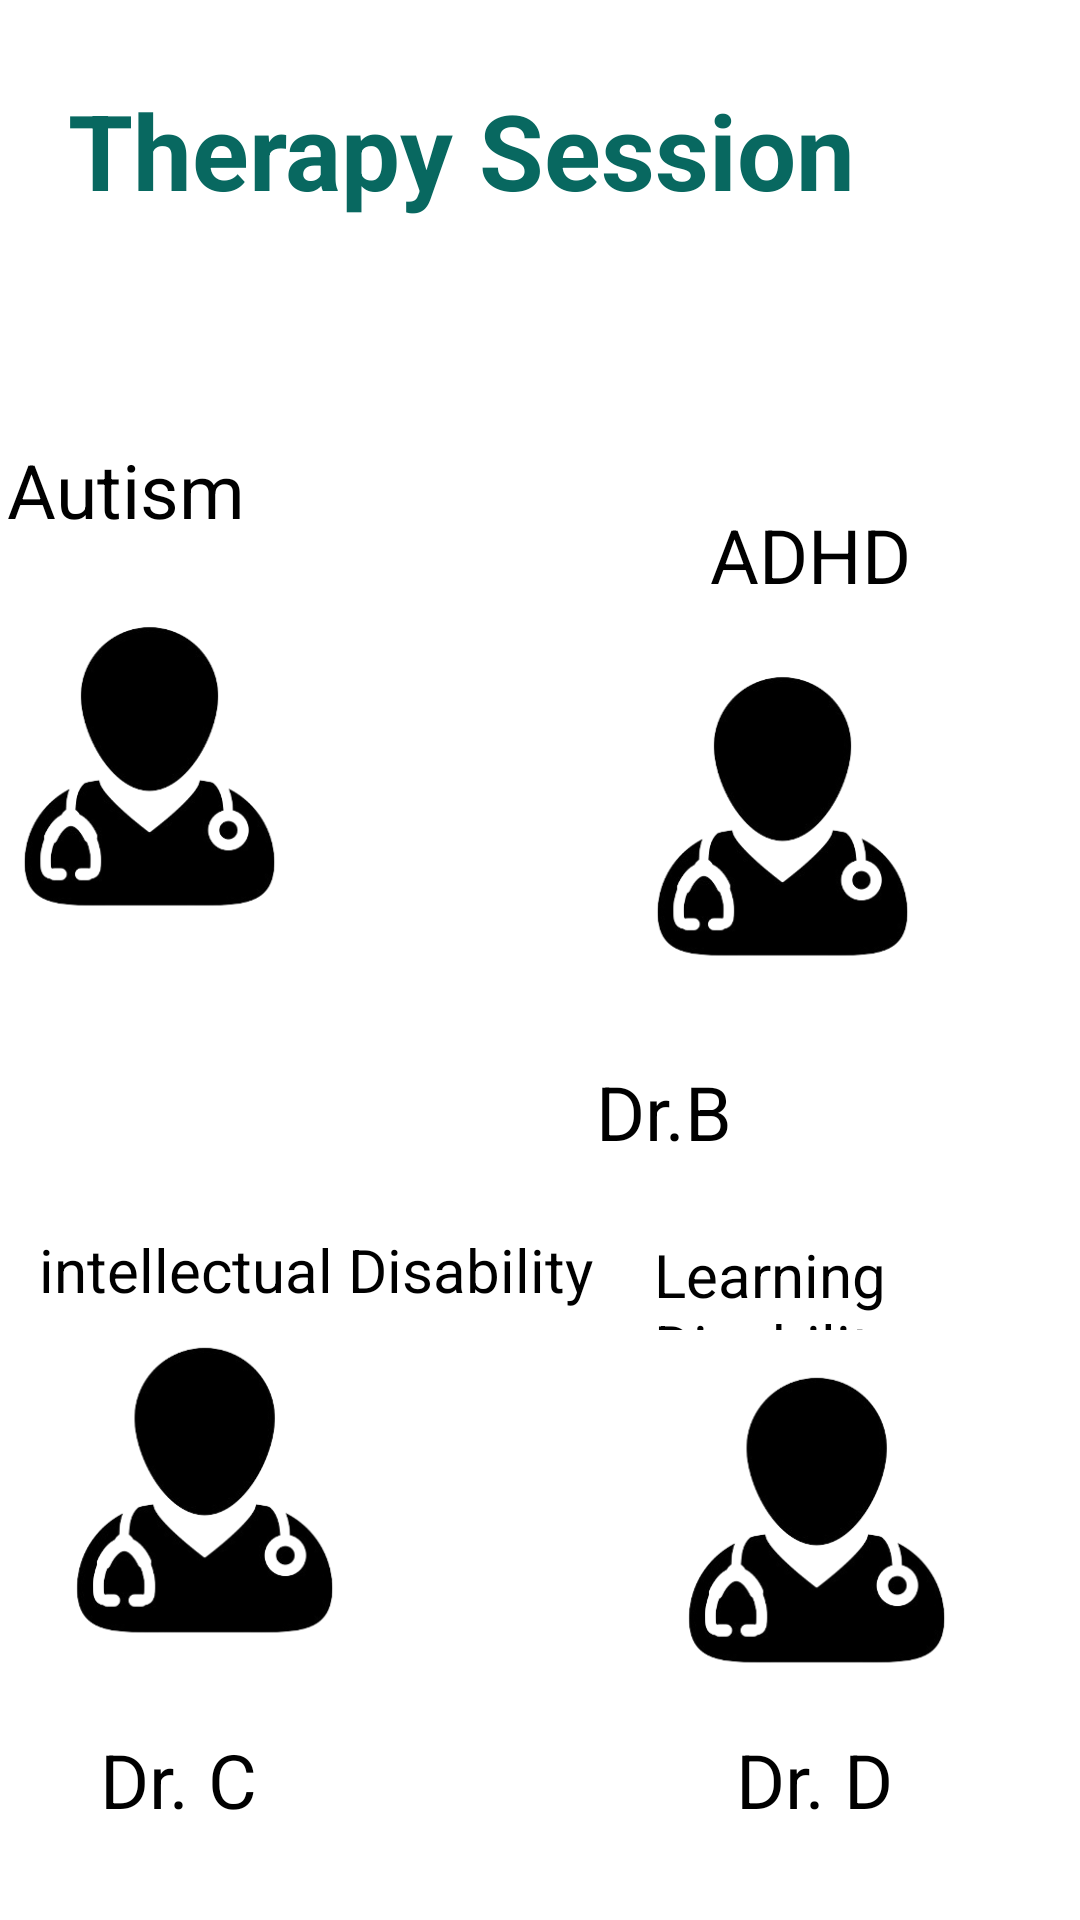

Screen size 1080px x 1920px. Icon name, then its center in pixels as (x,y):
doctor: (149,766), (782,816), (205,1490), (817,1520)
